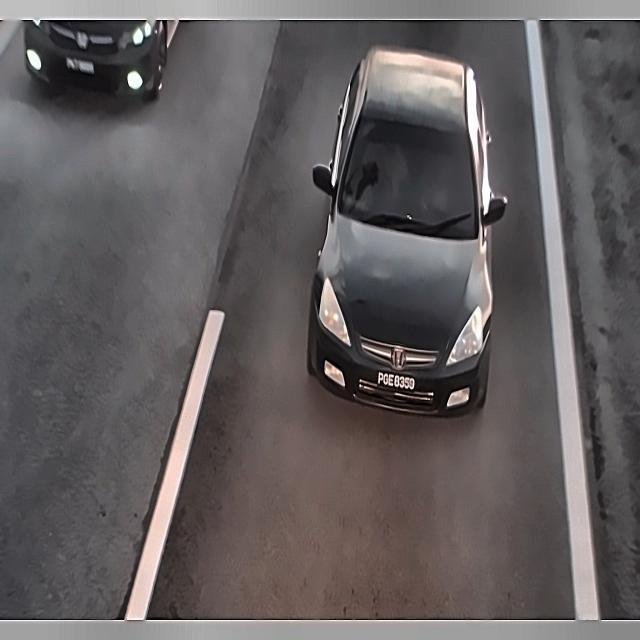car: (375, 368, 420, 397), (64, 53, 98, 78)
